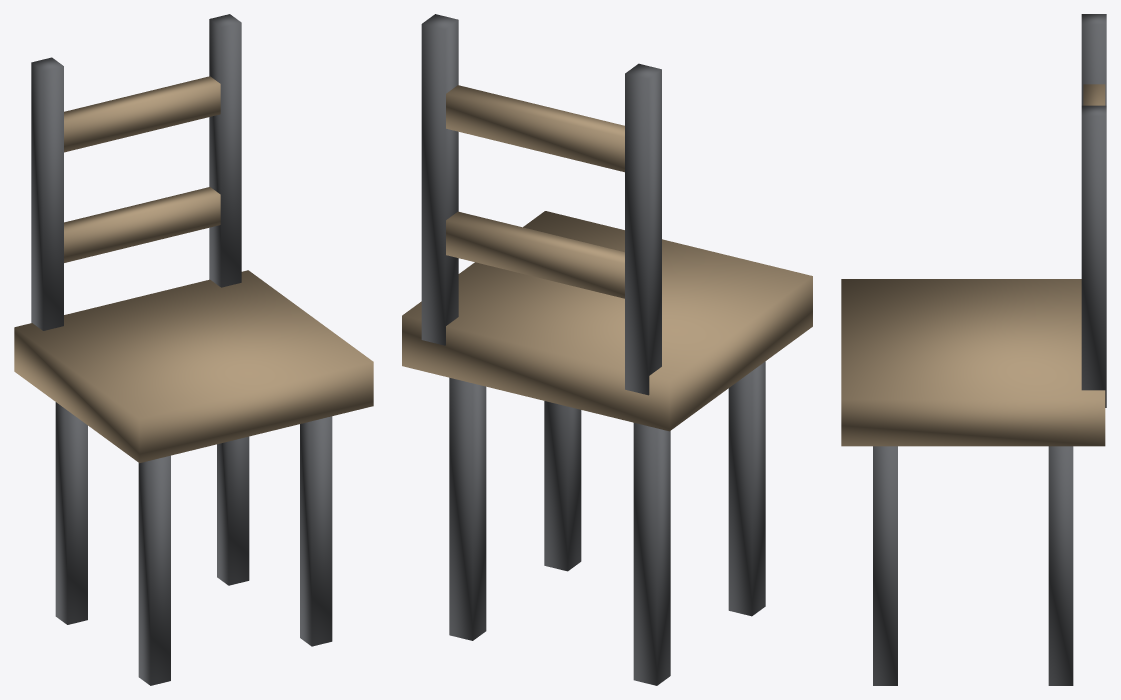
File: dining_chair__tall.glb
The picture shows the model from 3 angles, left to right: view 1: azimuth 30°, elevation 25°; view 2: azimuth 150°, elevation 25°; view 3: azimuth 270°, elevation 25°; orthographic projection. The views are drawn at different scales.
Parts seen in each view (by area): view 1: world; view 2: world; view 3: world.
Part boxes in pixels (left/top/right/bottom): world: left=14, top=14, right=373, bottom=685; world: left=402, top=14, right=812, bottom=685; world: left=841, top=14, right=1106, bottom=685.
Size of the model in its own units: 0.5137 by 1.14 by 0.4785.
